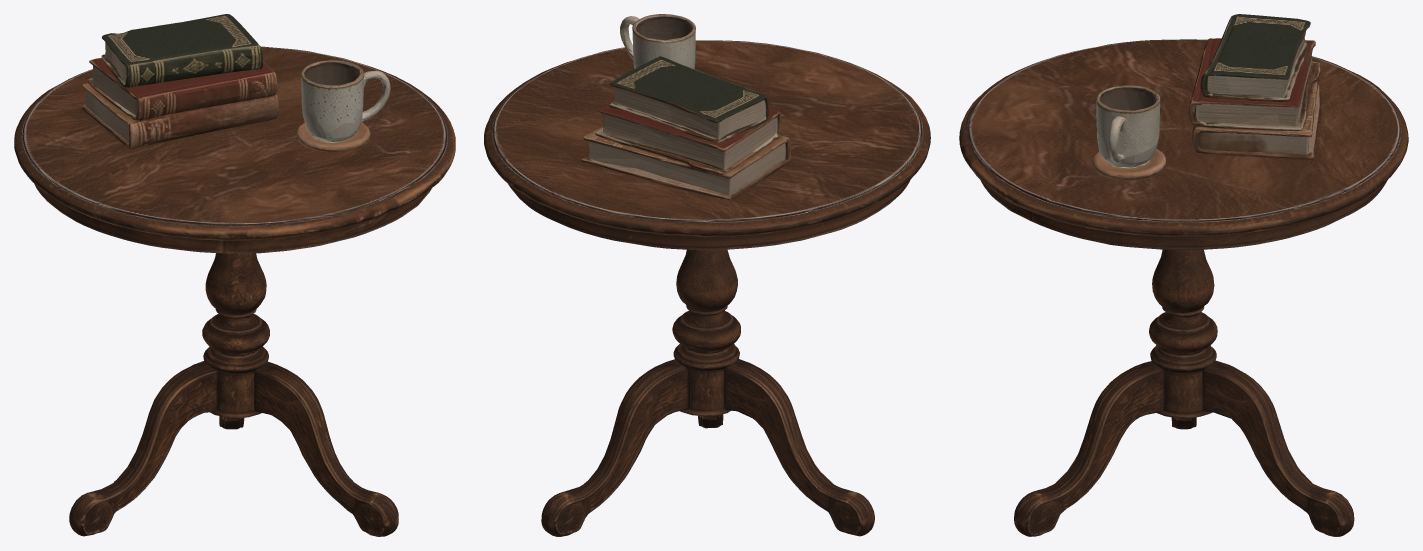
File: reading-table.glb
The picture shows the model from 3 angles, left to right: view 1: azimuth 30°, elevation 25°; view 2: azimuth 150°, elevation 25°; view 3: azimuth 270°, elevation 25°; orthographic projection.
Visible parts, largest first — view 1: Mesh_0; view 2: Mesh_0; view 3: Mesh_0.
Part boxes in pixels (bbox=[...]): Mesh_0: bbox=[14, 14, 455, 536]; Mesh_0: bbox=[484, 14, 930, 536]; Mesh_0: bbox=[959, 14, 1408, 536].
Bounding box in the file's own units: 1.74 × 1.9 × 1.75.
1 material, 1 textured.
